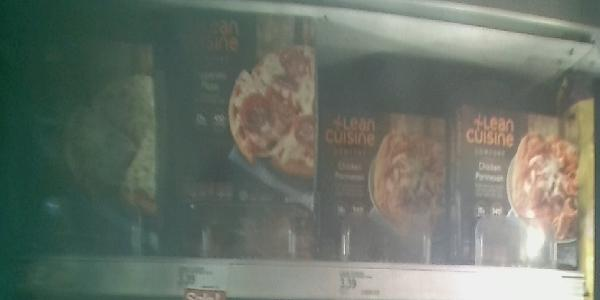pizza1: (2, 5, 165, 254), (167, 5, 320, 261), (460, 101, 588, 270), (321, 110, 451, 260)
